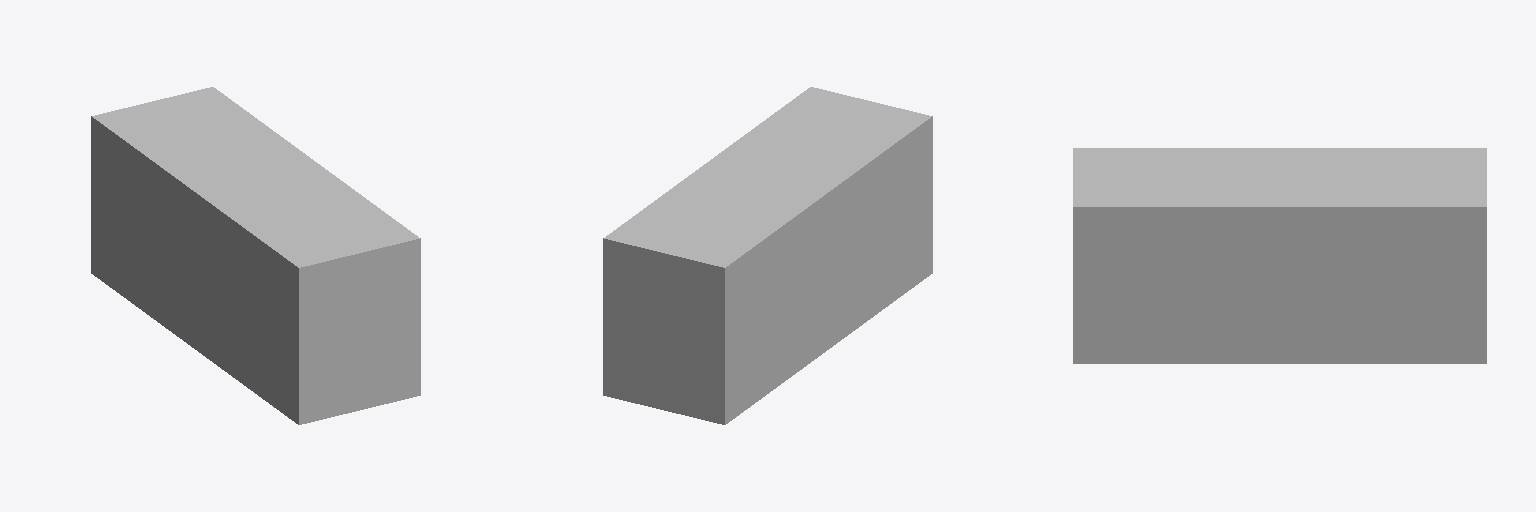
The model's file is UpperCabinet_Cube.005.obj.
The picture shows the model from 3 angles: view 1: azimuth 30°, elevation 25°; view 2: azimuth 150°, elevation 25°; view 3: azimuth 270°, elevation 25°; orthographic projection.
Parts seen in each view (by area): view 1: UpperCabinet_Cube.005; view 2: UpperCabinet_Cube.005; view 3: UpperCabinet_Cube.005.
Part boxes in pixels (x1,y1,x2,y2): UpperCabinet_Cube.005: (91, 87, 420, 424); UpperCabinet_Cube.005: (603, 87, 932, 424); UpperCabinet_Cube.005: (1073, 148, 1486, 363).
Bounding box in the file's own units: 1.75 × 2.16 × 5.16.